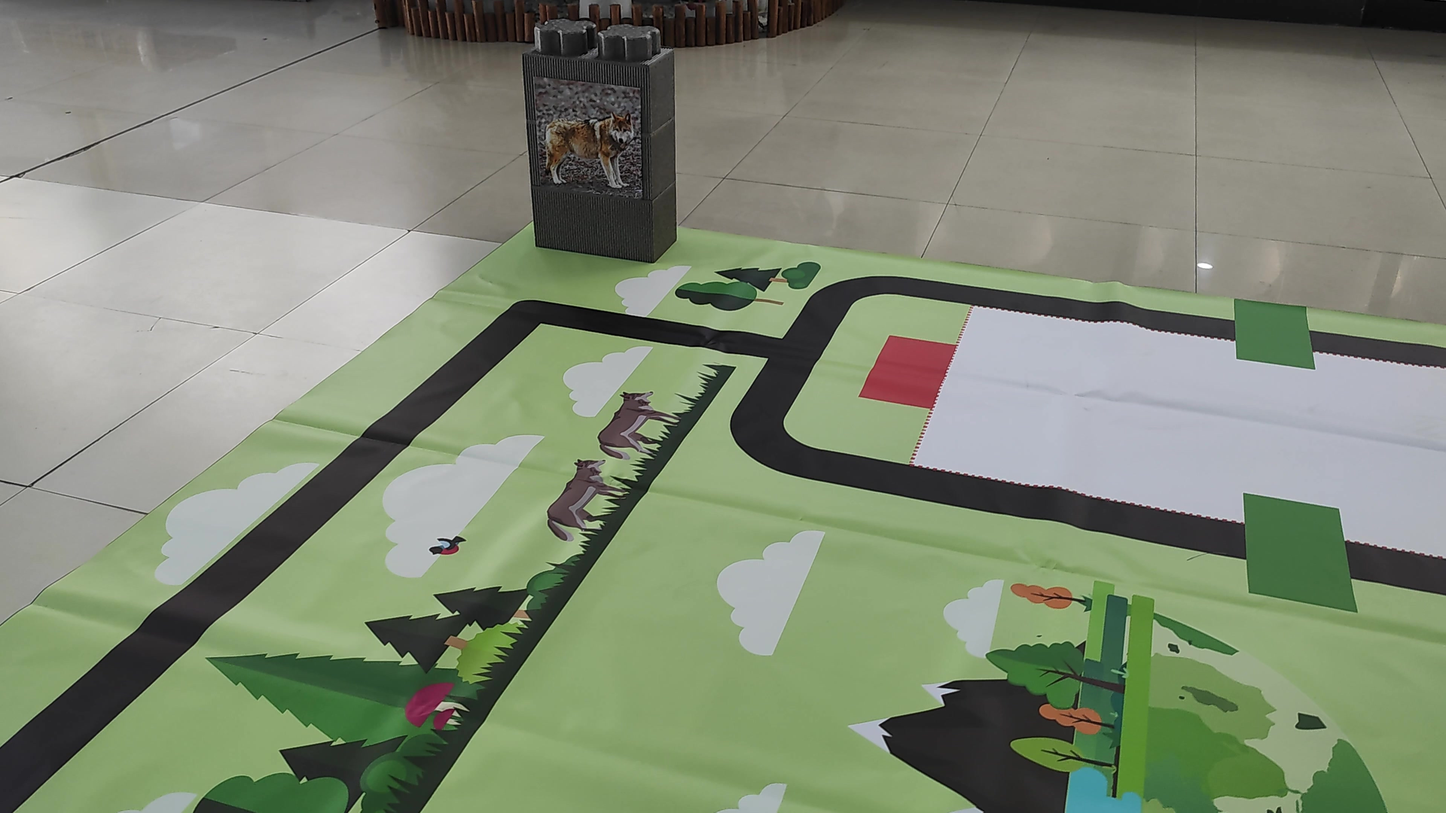wolf: (528, 90, 645, 199)
